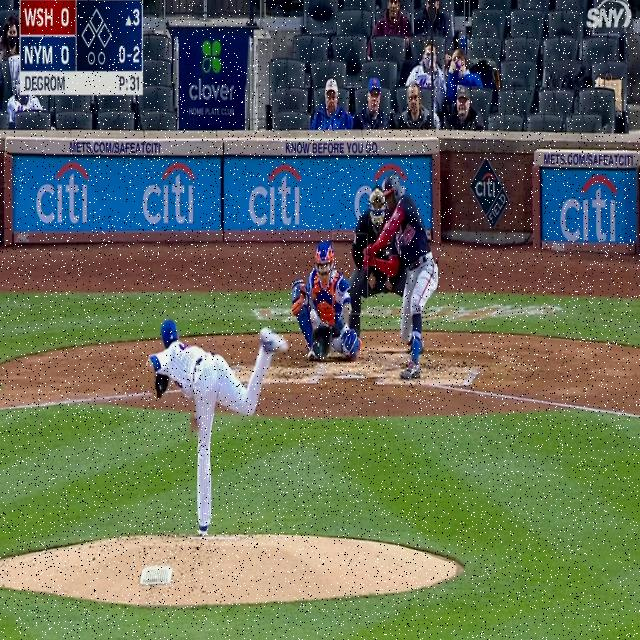baseball: (310, 310, 317, 321)
